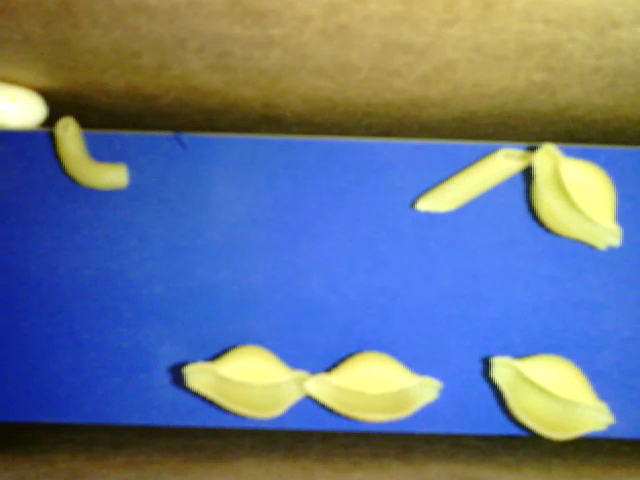elbow: (54, 114, 129, 190)
penne: (412, 146, 533, 212)
shell: (489, 352, 615, 441), (305, 349, 445, 422), (530, 141, 622, 249), (183, 344, 312, 420)
